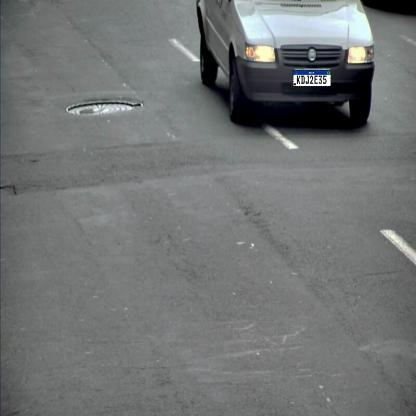PlacaM: (293, 70, 331, 87)
